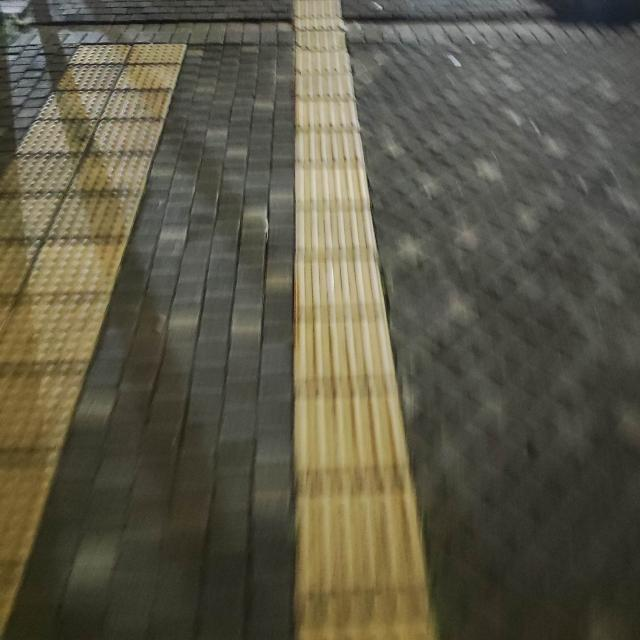lurus: (284, 52, 412, 640)
